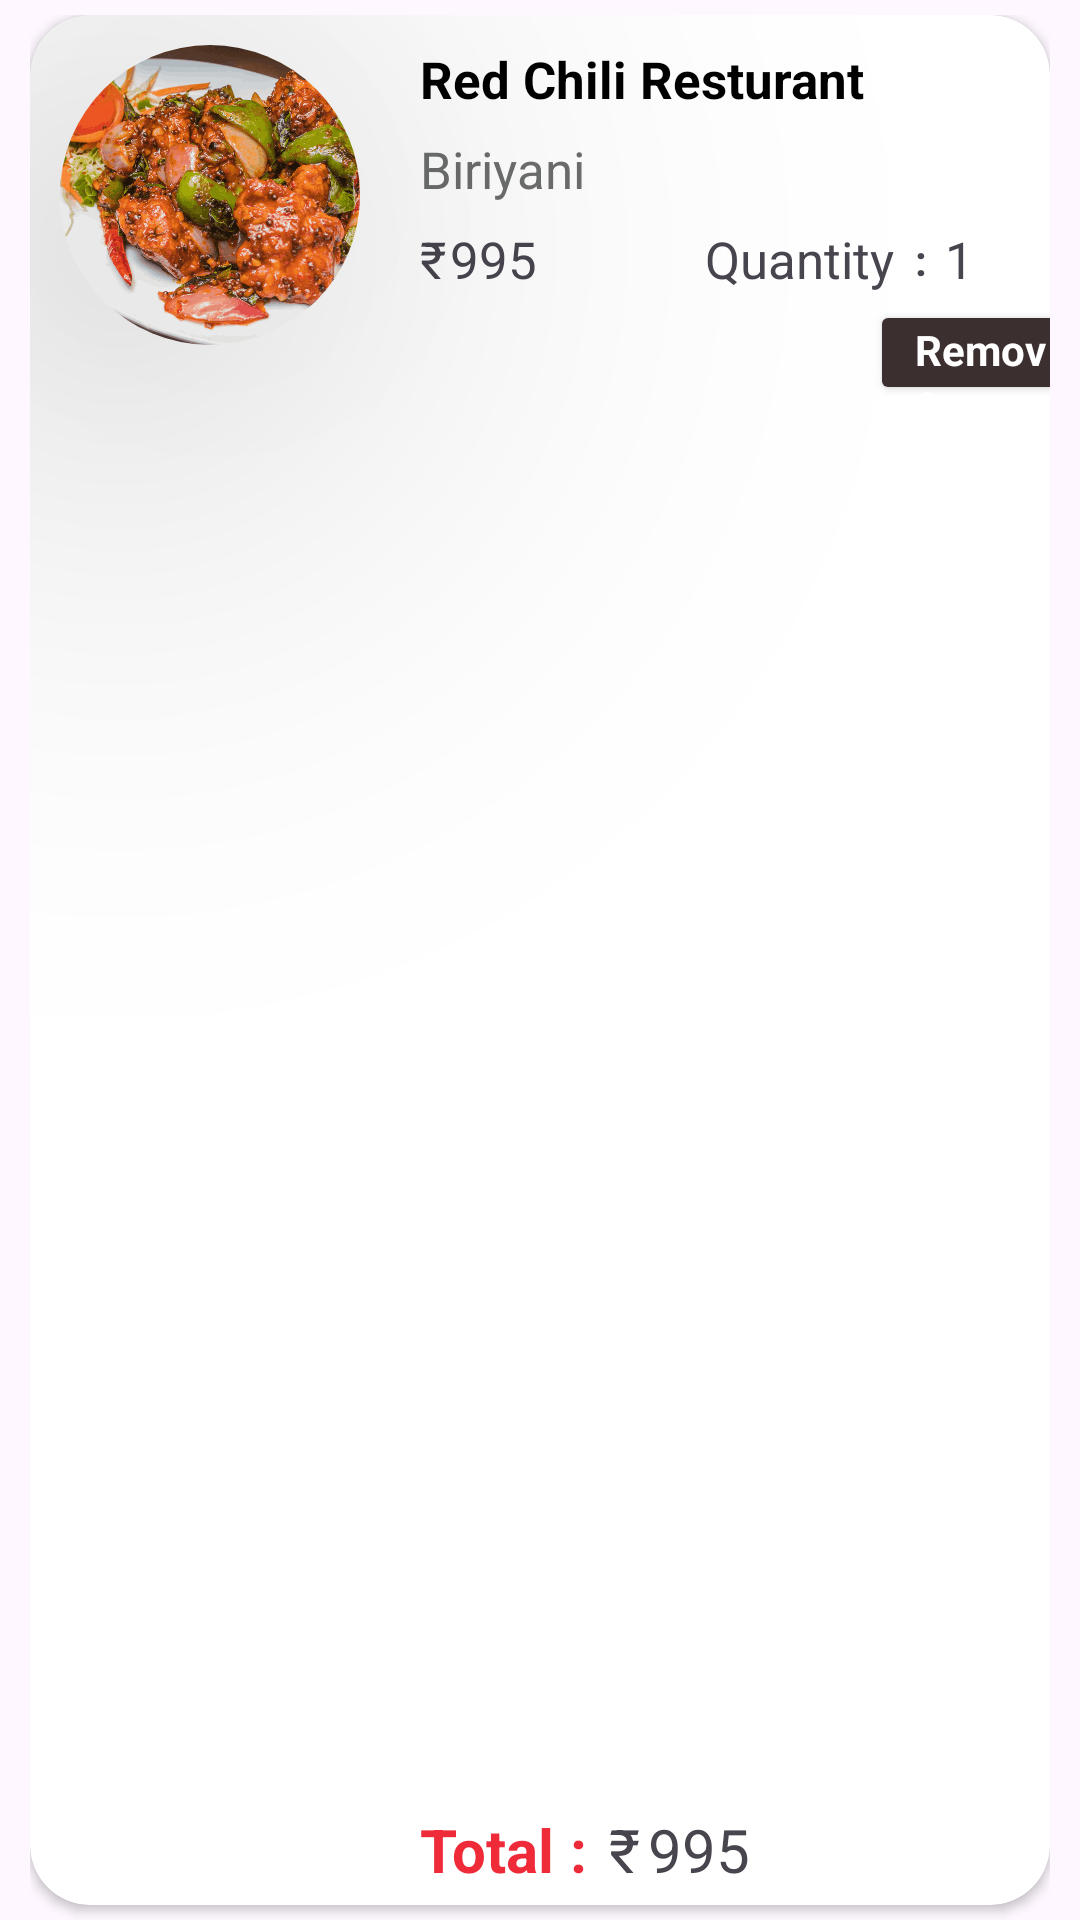

Locate icon controls on the screen. Image size 1080x1920, boxes as Rect(x1, y1, x2, y2).
chili chicken main: Rect(60, 45, 360, 345)
